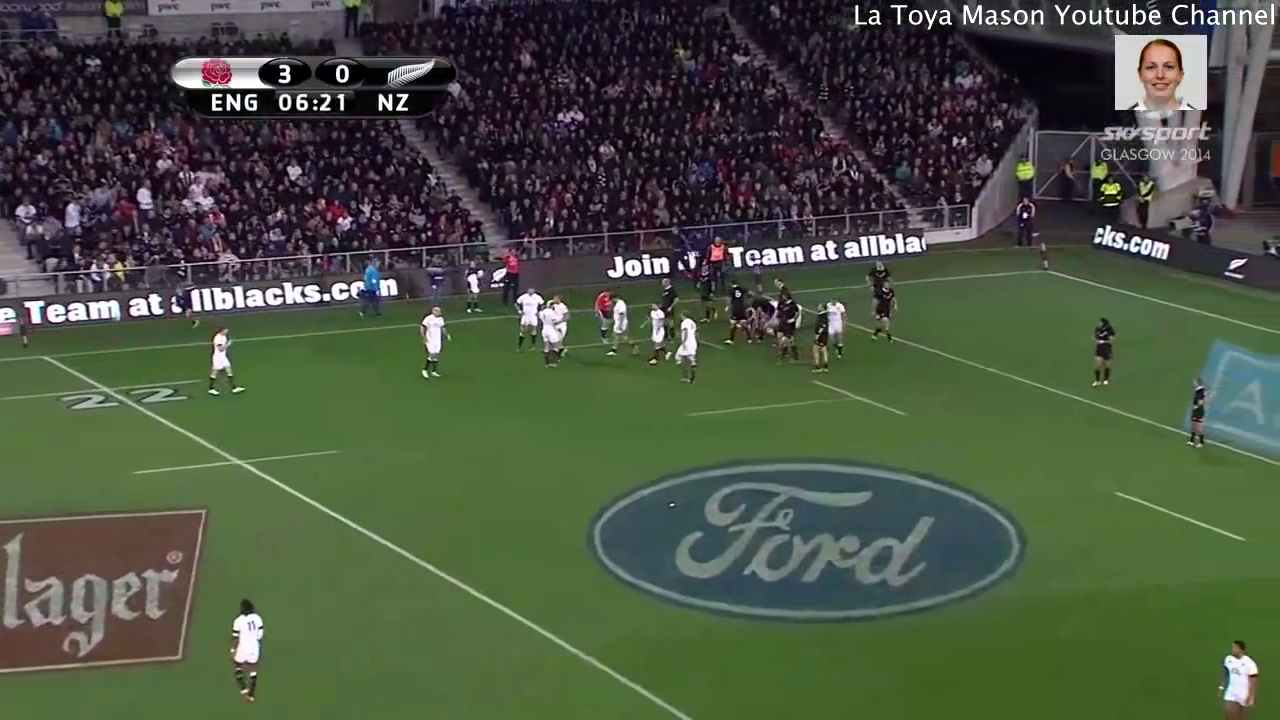player: (216, 592, 273, 712), (1209, 631, 1269, 720), (192, 317, 249, 402), (409, 299, 457, 385), (1173, 370, 1218, 460), (1084, 306, 1125, 398), (667, 302, 707, 395), (504, 280, 546, 358), (865, 274, 907, 352), (533, 300, 573, 379), (635, 296, 676, 371), (602, 292, 645, 361), (718, 276, 756, 347), (773, 289, 806, 368), (818, 291, 852, 365), (651, 273, 683, 346), (586, 286, 618, 356), (807, 300, 835, 379), (743, 287, 782, 333), (545, 289, 576, 346), (866, 255, 898, 295), (771, 278, 791, 298)
